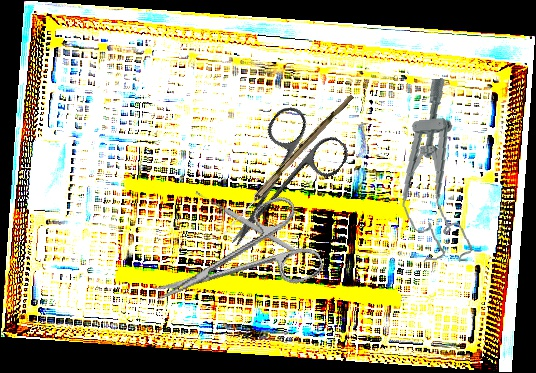Iris Scissors: (138, 190, 327, 333), (198, 100, 354, 268)
Speculum: (391, 76, 475, 267)
Surgical Spoon: (220, 91, 355, 238), (194, 188, 297, 255)
